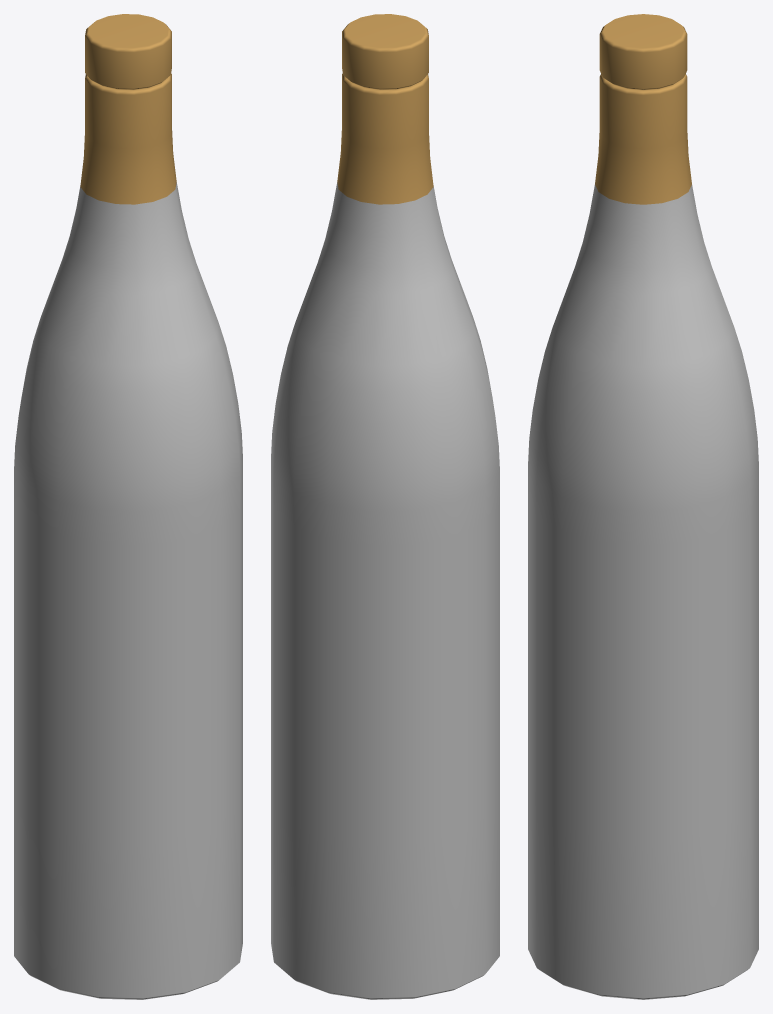
Rendered from Wine Bottle.FBX.
The picture shows the model from 3 angles, left to right: view 1: azimuth 30°, elevation 25°; view 2: azimuth 150°, elevation 25°; view 3: azimuth 270°, elevation 25°; orthographic projection.
Parts seen in each view (by area): view 1: Wine Bottle; view 2: Wine Bottle; view 3: Wine Bottle.
Boxes of the visible parts, x1,y1,x2,y2 form: Wine Bottle: (14, 14, 242, 999); Wine Bottle: (271, 14, 499, 999); Wine Bottle: (528, 14, 758, 999).
Size of the model in its own units: 10.53 by 46.5 by 10.53.
